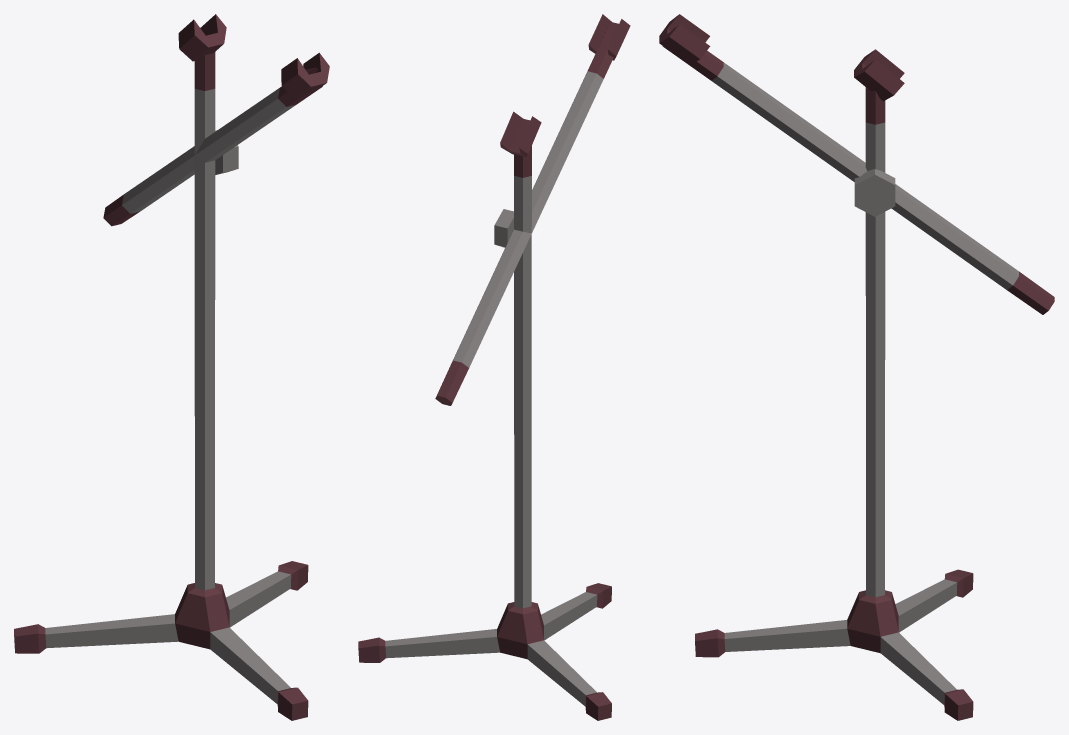
Rendered from microphone-stand.fbx.
3 renders of one model, left to right at view 1: azimuth 30°, elevation 25°; view 2: azimuth 150°, elevation 25°; view 3: azimuth 270°, elevation 25°, orthographic. The views are drawn at different scales.
Visible parts, largest first — view 1: microphone-stand-body, microphone-stand-arm; view 2: microphone-stand-body, microphone-stand-arm; view 3: microphone-stand-body, microphone-stand-arm.
Part boxes in pixels (box(x1,y1,x2,y2)): microphone-stand-body: box(14, 14, 308, 720); microphone-stand-arm: box(103, 52, 329, 226); microphone-stand-body: box(358, 111, 611, 720); microphone-stand-arm: box(435, 14, 630, 405); microphone-stand-body: box(695, 49, 973, 720); microphone-stand-arm: box(659, 14, 1054, 314).
Bounding box in the file's own units: 0.6461 × 1.41 × 0.7942.
